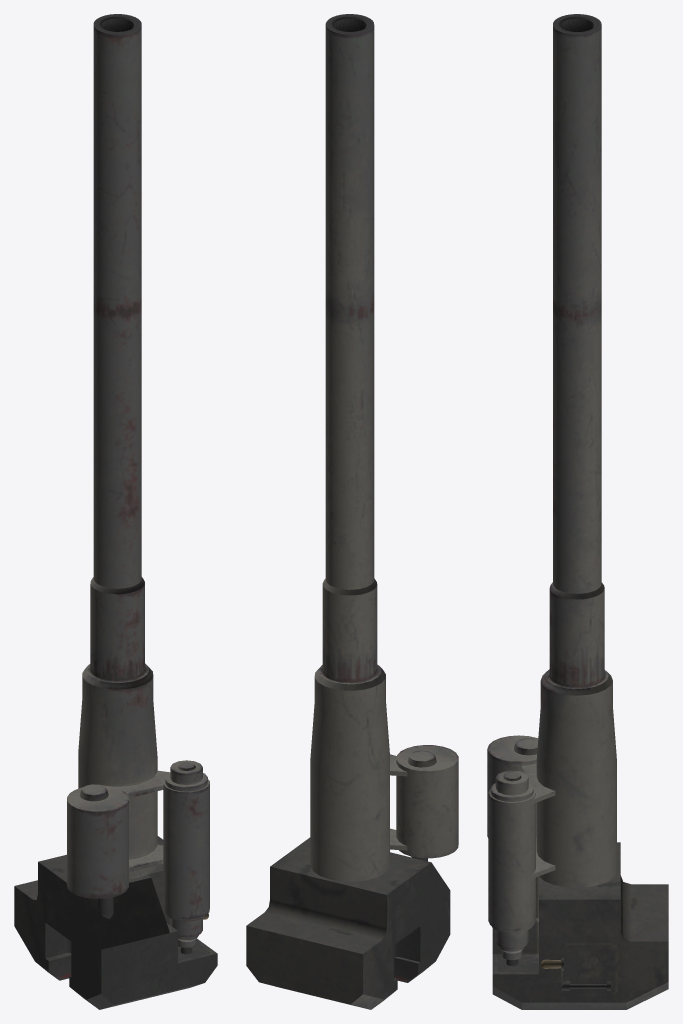
The model's file is Gun_02.glb.
3 views of the same model, side by side, from view 1: azimuth 30°, elevation 25°; view 2: azimuth 150°, elevation 25°; view 3: azimuth 270°, elevation 25° (orthographic).
Visible parts, largest first — view 1: set_0_group_0; view 2: set_0_group_0; view 3: set_0_group_0.
Part boxes in pixels (bbox=[...]): set_0_group_0: bbox=[14, 14, 217, 1009]; set_0_group_0: bbox=[246, 14, 458, 1009]; set_0_group_0: bbox=[487, 14, 668, 1009].
Bounding box in the file's own units: 0.7908 × 4.75 × 0.8091.
1 material, 1 textured.
